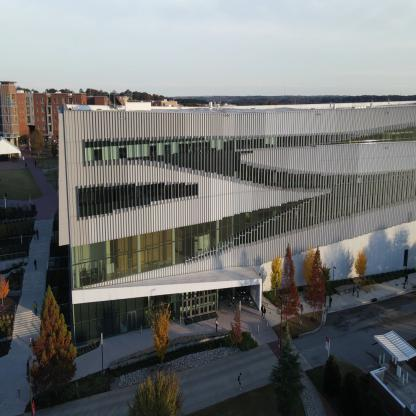Hunt Library: (45, 77, 415, 363)
